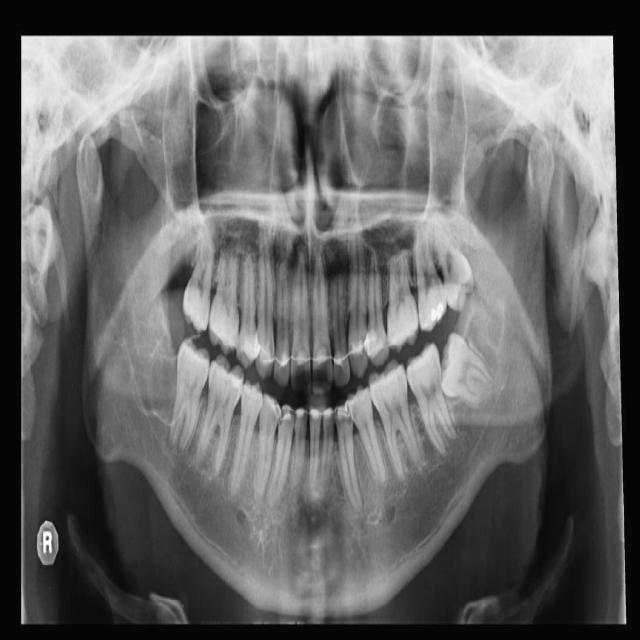Filling: (429, 301, 445, 326)
impacted tooth: (441, 331, 497, 406)
